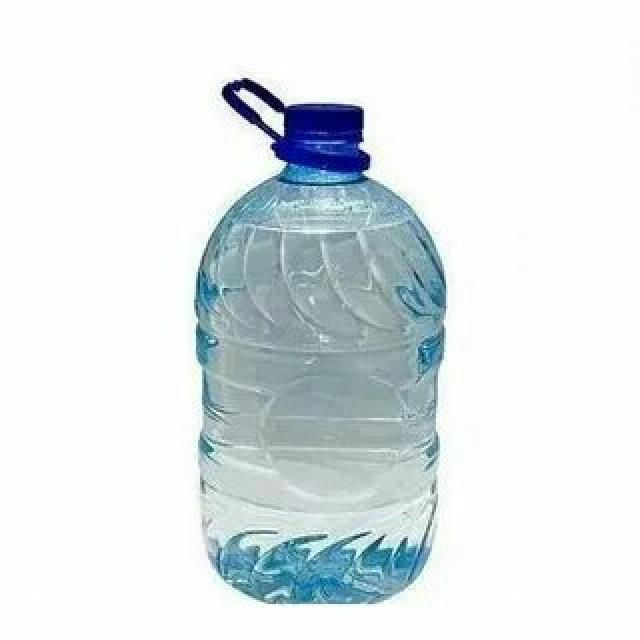blue: (193, 146, 447, 602)
